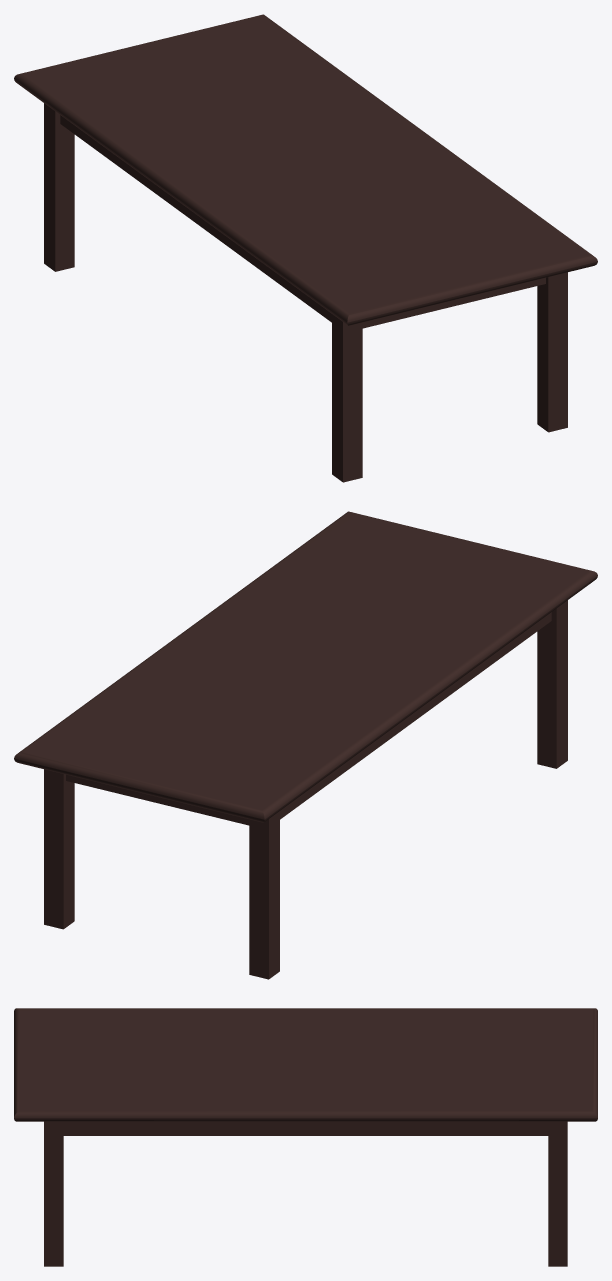
Rendered from GrandeTable_38.fbx.
3 views of the same model, one above another, from view 1: azimuth 30°, elevation 25°; view 2: azimuth 150°, elevation 25°; view 3: azimuth 270°, elevation 25° (orthographic). The views are drawn at different scales.
Visible parts, largest first — view 1: pCube80, pCube82, pCube81, pCube83; view 2: pCube80, pCube83, pCube84, pCube82; view 3: pCube80, pCube84, pCube81.
Part boxes in pixels (x1=…): pCube80: x1=14, y1=14, x2=597, y2=328; pCube82: x1=332, y1=314, x2=362, y2=482; pCube81: x1=537, y1=272, x2=567, y2=432; pCube83: x1=44, y1=103, x2=74, y2=271; pCube80: x1=14, y1=511, x2=597, y2=825; pCube83: x1=249, y1=811, x2=279, y2=979; pCube84: x1=44, y1=769, x2=74, y2=929; pCube82: x1=537, y1=600, x2=567, y2=768; pCube80: x1=14, y1=1008, x2=597, y2=1135; pCube84: x1=548, y1=1121, x2=567, y2=1266; pCube81: x1=44, y1=1121, x2=63, y2=1266.
Bounding box in the file's own units: 57.3 × 39.63 × 132.
